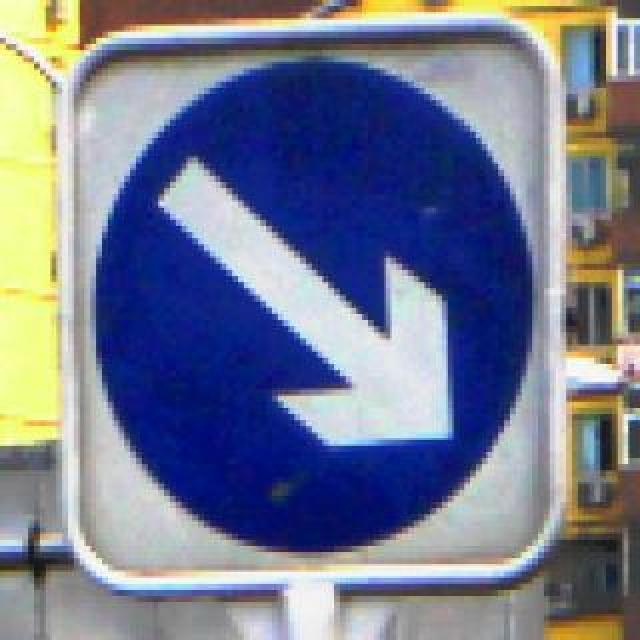keep right: (84, 44, 532, 552)
